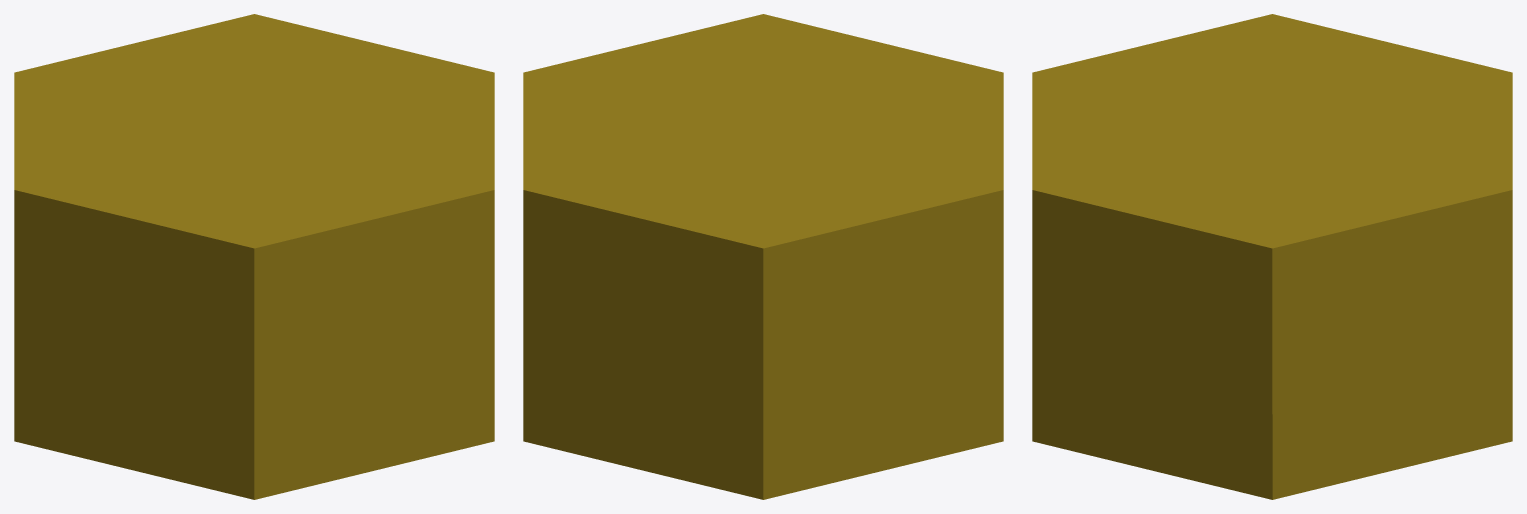
File: HexDarkYellow.fbx
The picture shows the model from 3 angles, left to right: view 1: azimuth 30°, elevation 25°; view 2: azimuth 150°, elevation 25°; view 3: azimuth 270°, elevation 25°; orthographic projection.
Visible parts, largest first — view 1: pCylinder1; view 2: pCylinder1; view 3: pCylinder1.
Part boxes in pixels (<box>): pCylinder1: <box>14,14,494,499</box>; pCylinder1: <box>523,14,1003,499</box>; pCylinder1: <box>1032,14,1512,499</box>.
Size of the model in its own units: 2 by 1 by 1.73.
Materials: 1 (1 with a texture image).
